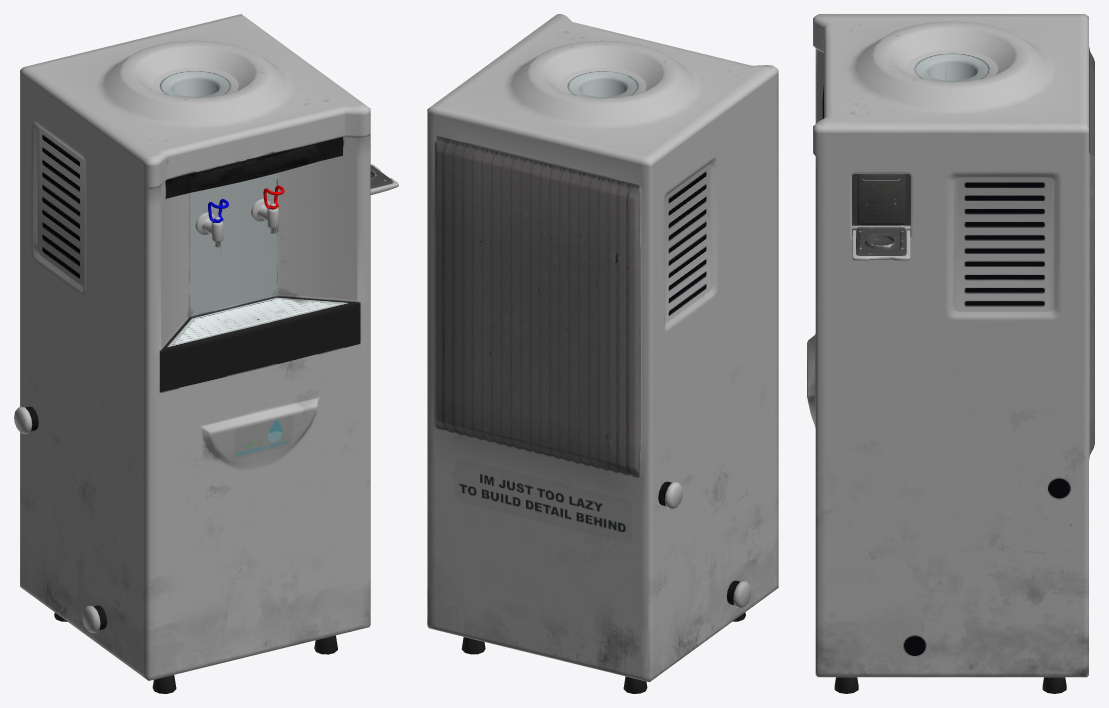
Rendered from uploads_files_3156658_Water_Dispender.fbx.
3 views of the same model, side by side, from view 1: azimuth 30°, elevation 25°; view 2: azimuth 150°, elevation 25°; view 3: azimuth 270°, elevation 25° (orthographic). The views are drawn at different scales.
Visible parts, largest first — view 1: Water_Dispender; view 2: Water_Dispender; view 3: Water_Dispender.
Boxes of the visible parts, x1,y1,x2,y2 form: Water_Dispender: (14, 14, 398, 693); Water_Dispender: (427, 14, 778, 693); Water_Dispender: (807, 14, 1094, 693).
Bounding box in the file's own units: 56.88 × 108 × 47.46.
